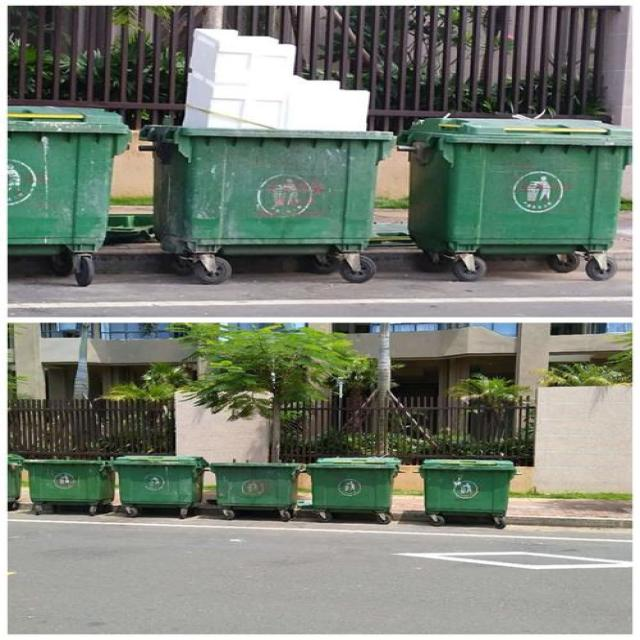garbage_bin: (396, 119, 630, 251), (6, 105, 132, 253), (305, 456, 398, 511), (418, 460, 516, 512), (113, 455, 207, 505), (22, 458, 114, 502), (210, 460, 297, 504), (8, 453, 23, 498)
overflow: (137, 29, 393, 255)
